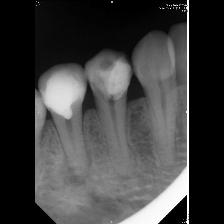apical_lesion: (38, 64, 105, 201)
